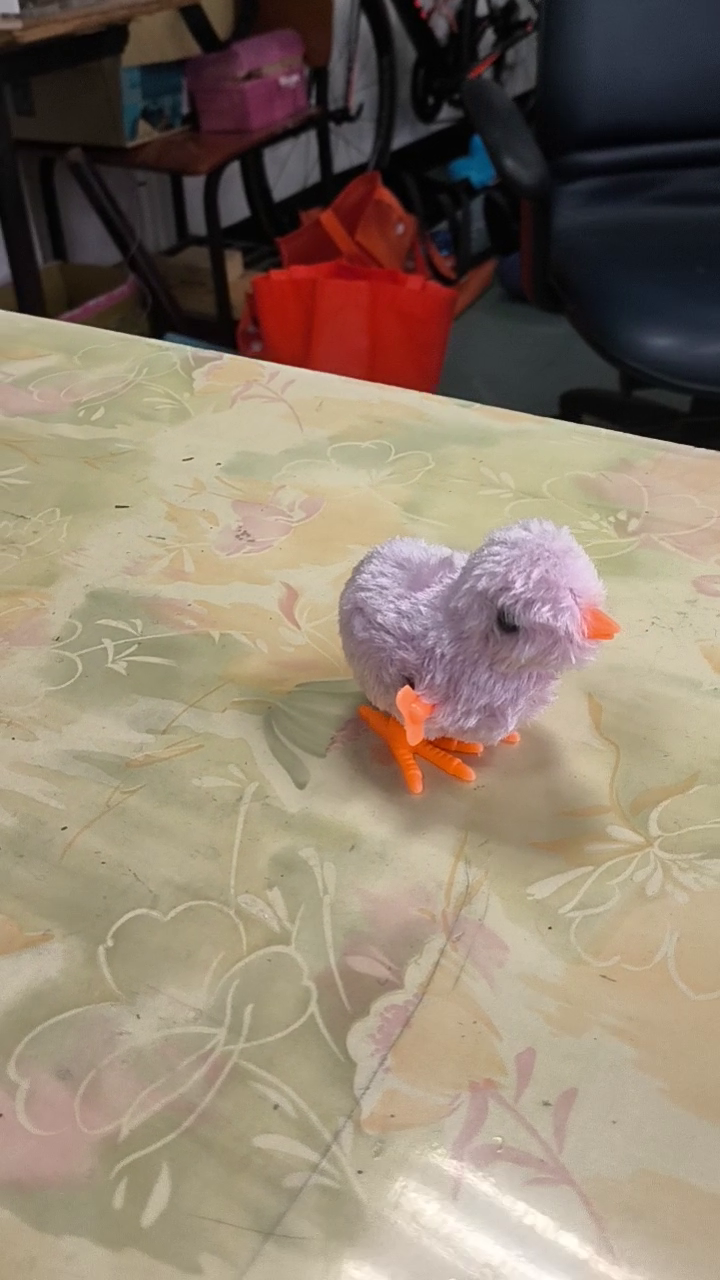pink chicken: (331, 512, 629, 799)
